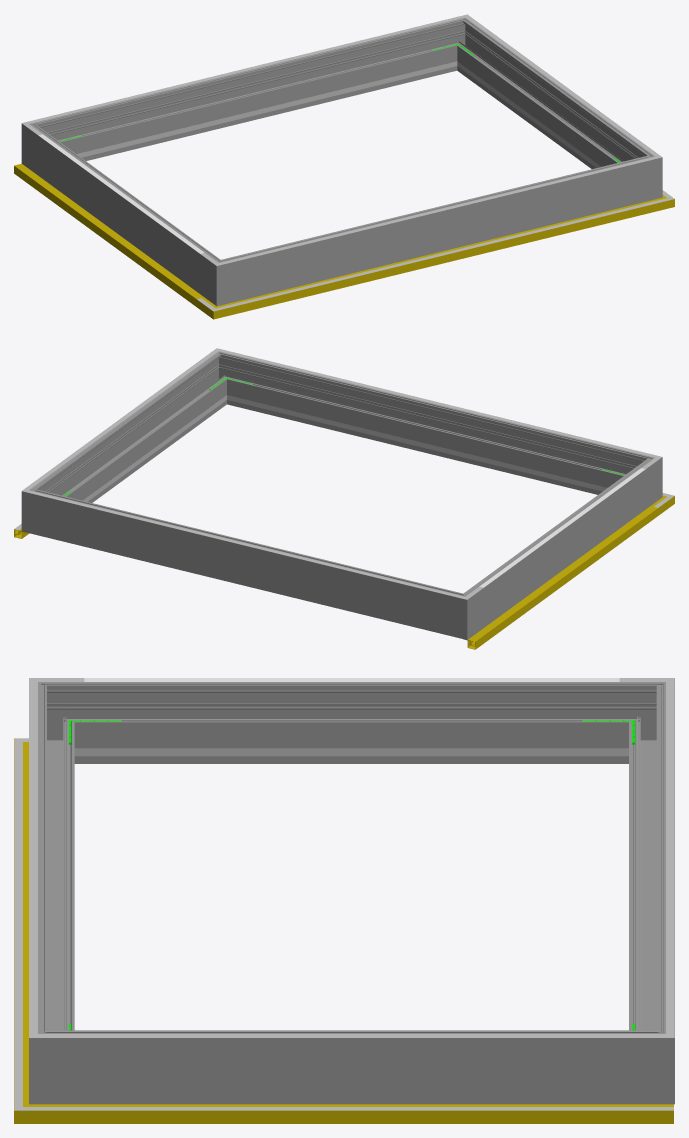
The picture shows the model from 3 angles, top to bottom: view 1: azimuth 30°, elevation 25°; view 2: azimuth 150°, elevation 25°; view 3: azimuth 270°, elevation 25°; orthographic projection. The views are drawn at different scales.
Visible parts, largest first — view 1: 3DGeom-276, 3DGeom-298, 3DGeom-297, 3DGeom-268, 3DGeom-11, 3DGeom-6, 3DGeom-270, 3DGeom-244, 3DGeom-290, 3DGeom-20, 3DGeom-316, 3DGeom-304 (+7 smaller); view 2: 3DGeom-298, 3DGeom-276, 3DGeom-297, 3DGeom-268, 3DGeom-6, 3DGeom-278, 3DGeom-239, 3DGeom-284, 3DGeom-304, 3DGeom-316, 3DGeom-290, 3DGeom-270 (+4 smaller); view 3: 3DGeom-268, 3DGeom-297, 3DGeom-276, 3DGeom-298, 3DGeom-16, 3DGeom-284, 3DGeom-232, 3DGeom-290, 3DGeom-20, 3DGeom-304, 3DGeom-316, 3DGeom-270 (+6 smaller).
Part boxes in pixels (x1,y1,x2,y2): 3DGeom-276: (53, 23, 452, 160); 3DGeom-298: (240, 160, 633, 299); 3DGeom-297: (460, 28, 641, 168); 3DGeom-268: (38, 133, 208, 293); 3DGeom-11: (238, 203, 645, 312); 3DGeom-6: (14, 163, 204, 306); 3DGeom-270: (200, 251, 245, 306); 3DGeom-244: (87, 68, 429, 156); 3DGeom-290: (628, 146, 662, 204); 3DGeom-20: (240, 204, 645, 304); 3DGeom-316: (243, 162, 633, 258); 3DGeom-304: (51, 21, 440, 117); 3DGeom-298: (231, 357, 630, 494); 3DGeom-276: (50, 494, 443, 632); 3DGeom-297: (43, 361, 224, 502); 3DGeom-268: (475, 467, 645, 627); 3DGeom-6: (463, 506, 658, 649); 3DGeom-278: (438, 585, 483, 639); 3DGeom-239: (254, 402, 596, 489); 3DGeom-284: (21, 480, 55, 538); 3DGeom-304: (51, 496, 440, 592); 3DGeom-316: (243, 355, 632, 451); 3DGeom-290: (205, 351, 242, 405); 3DGeom-270: (620, 452, 662, 508); 3DGeom-268: (84, 682, 619, 763); 3DGeom-297: (84, 1030, 619, 1104); 3DGeom-276: (629, 701, 674, 1030); 3DGeom-298: (38, 701, 74, 1030); 3DGeom-16: (69, 1104, 673, 1123); 3DGeom-284: (620, 1014, 674, 1104); 3DGeom-232: (128, 748, 575, 756); 3DGeom-290: (29, 1014, 83, 1104); 3DGeom-20: (14, 761, 22, 1087); 3DGeom-304: (666, 701, 674, 1014); 3DGeom-316: (29, 701, 37, 1014); 3DGeom-270: (38, 682, 83, 763).
Bounding box in the file's own units: 2.44 × 0.2434 × 1.83.
